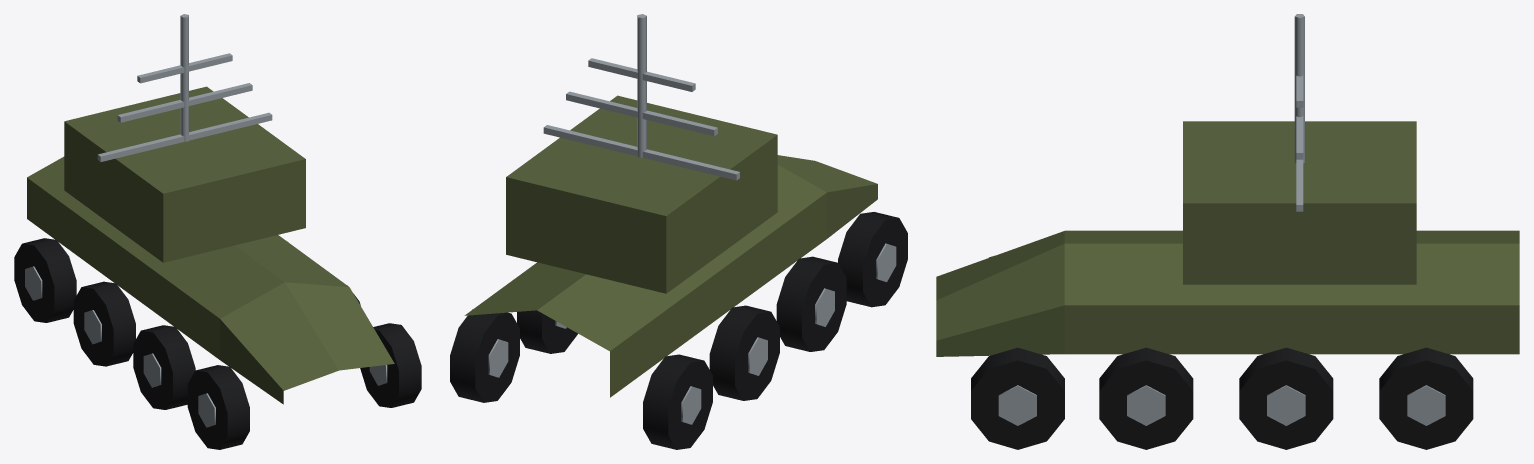
Rendered from veh_ground_jammer_a08.glb.
The picture shows the model from 3 angles, left to right: view 1: azimuth 30°, elevation 25°; view 2: azimuth 150°, elevation 25°; view 3: azimuth 270°, elevation 25°; orthographic projection. The views are drawn at different scales.
Visible parts, largest first — view 1: body, antenna, wheel_6, wheel_2, wheel_0, wheel_4, wheel_7; view 2: body, antenna, wheel_0, wheel_2, wheel_4, wheel_1, wheel_6, wheel_3; view 3: body, wheel_5, wheel_1, wheel_3, wheel_7, antenna.
Part boxes in pixels (bbox=[...]): body: bbox=[27, 86, 394, 404]; antenna: bbox=[97, 14, 272, 161]; wheel_6: bbox=[187, 365, 249, 449]; wheel_2: bbox=[73, 281, 135, 366]; wheel_0: bbox=[14, 238, 76, 322]; wheel_4: bbox=[133, 325, 195, 409]; wheel_7: bbox=[360, 323, 421, 407]; body: bbox=[464, 95, 877, 397]; antenna: bbox=[543, 14, 739, 180]; wheel_0: bbox=[643, 354, 712, 449]; wheel_2: bbox=[709, 305, 779, 400]; wheel_4: bbox=[776, 256, 846, 351]; wheel_1: bbox=[450, 309, 519, 402]; wheel_6: bbox=[838, 212, 907, 307]; wheel_3: bbox=[517, 310, 577, 353]; body: bbox=[936, 121, 1519, 356]; wheel_5: bbox=[1099, 347, 1193, 449]; wheel_1: bbox=[1379, 347, 1473, 449]; wheel_3: bbox=[1239, 347, 1333, 449]; wheel_7: bbox=[971, 347, 1064, 449]; antenna: bbox=[1294, 14, 1304, 211].
Size of what is drawn, in the model's own units: 2.98 by 4.65 by 6.5.
